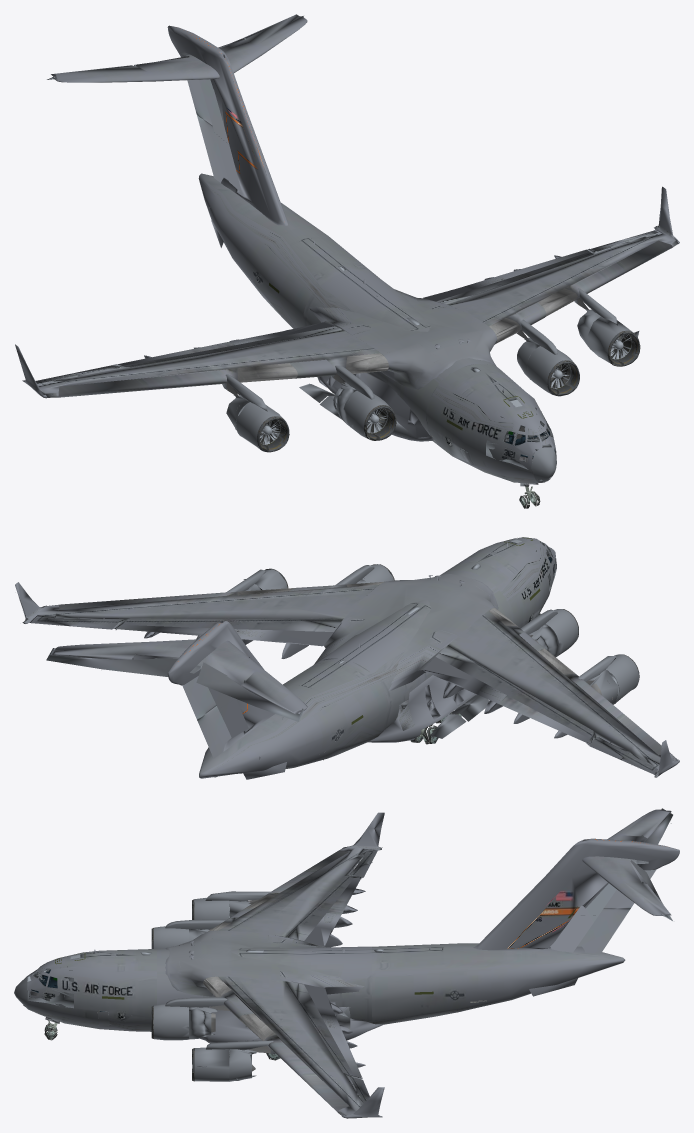
3 views of the same model, one above another, from view 1: azimuth 30°, elevation 25°; view 2: azimuth 150°, elevation 25°; view 3: azimuth 270°, elevation 25° (orthographic). The views are drawn at different scales.
Parts seen in each view (by area): view 1: BODY, FAN_1_mesh, FAN_2_mesh, FAN_3_mesh, FAN_0_mesh; view 2: BODY, FAN_3_mesh, FAN_0_mesh, FAN_2_mesh, FAN_1_mesh; view 3: BODY, FAN_0_mesh, FAN_2_mesh, FAN_3_mesh.
Boxes of the visible parts, bbox=[...] form: BODY: bbox=[15, 14, 679, 508]; FAN_1_mesh: bbox=[353, 342, 439, 441]; FAN_2_mesh: bbox=[516, 319, 579, 396]; FAN_3_mesh: bbox=[331, 365, 396, 440]; FAN_0_mesh: bbox=[209, 207, 520, 464]; BODY: bbox=[15, 537, 679, 779]; FAN_3_mesh: bbox=[520, 609, 578, 657]; FAN_0_mesh: bbox=[259, 570, 540, 759]; FAN_2_mesh: bbox=[335, 564, 394, 585]; FAN_1_mesh: bbox=[431, 585, 505, 705]; BODY: bbox=[14, 808, 679, 1118]; FAN_0_mesh: bbox=[97, 948, 437, 1043]; FAN_2_mesh: bbox=[151, 997, 230, 1040]; FAN_3_mesh: bbox=[151, 919, 226, 948].
Bounding box in the file's own units: 9.75 × 3.3 × 10.
34 materials, 21 textured.
